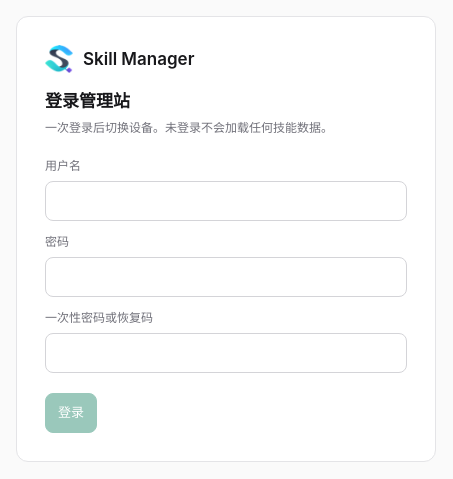
Scenario: recovery login shows TOTP rebind instead of entering the app
Type "admin" into the field labelled "用户名".
click(226, 201); type("admin")  # box x1=45 y1=181 x2=407 y2=221
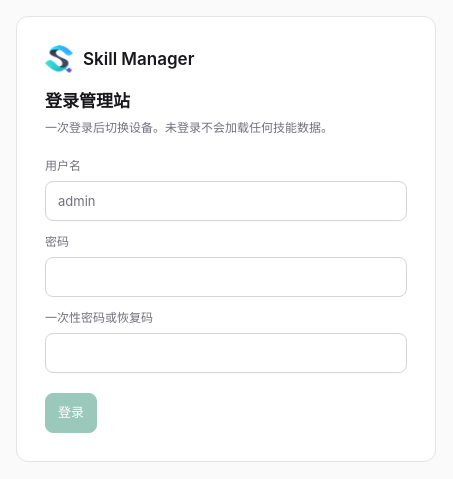
Type "password1" into the password field labelled "密码".
click(226, 277); type("password1")  # box x1=45 y1=257 x2=407 y2=297
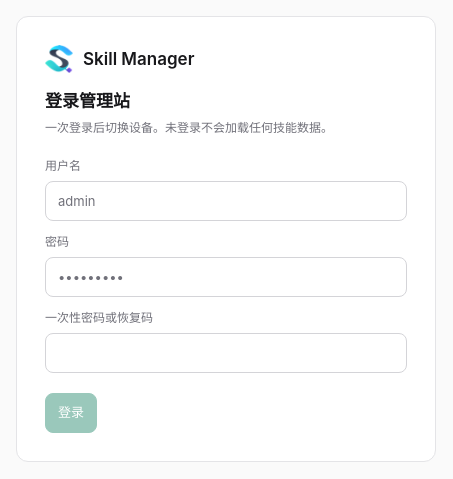
Type "deadbeef" into the field labelled "一次性密码或恢复码".
click(226, 353); type("deadbeef")  # box x1=45 y1=333 x2=407 y2=373
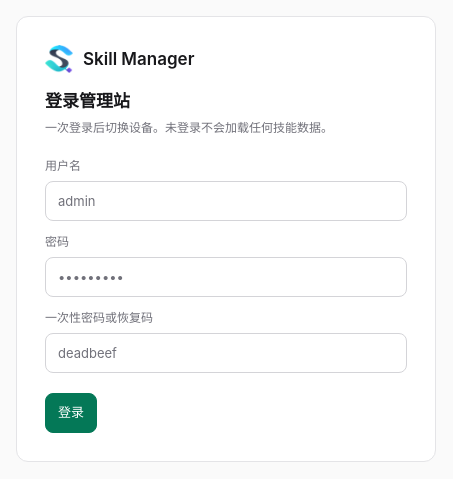
Click the button "登录".
click(71, 413)  # box x1=45 y1=393 x2=97 y2=433
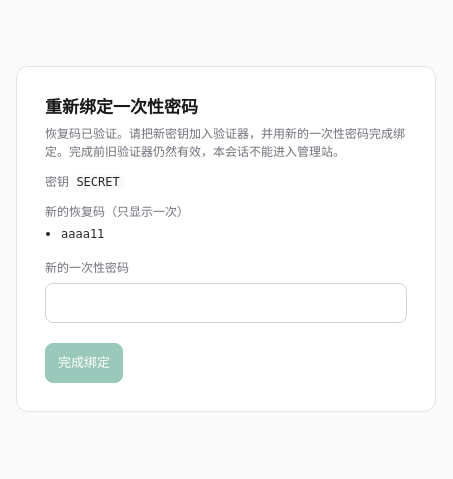
Expected: the heading "重新绑定一次性密码" is shown, x1=45 y1=97 x2=198 y2=117
Expected: the text "SECRET" is shown, x1=72 y1=175 x2=124 y2=189
